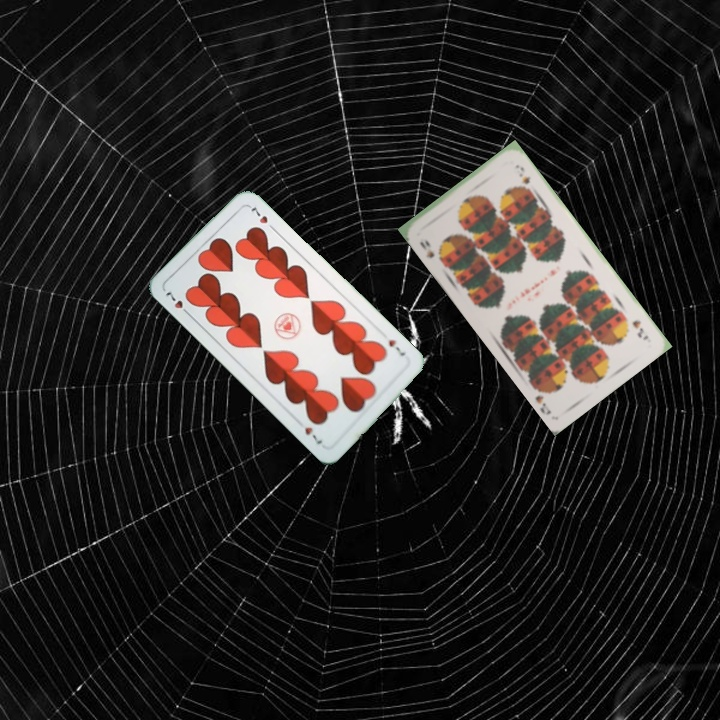H7: (161, 288, 193, 319), (384, 335, 408, 360)
S9: (416, 236, 447, 264), (628, 316, 651, 343)
